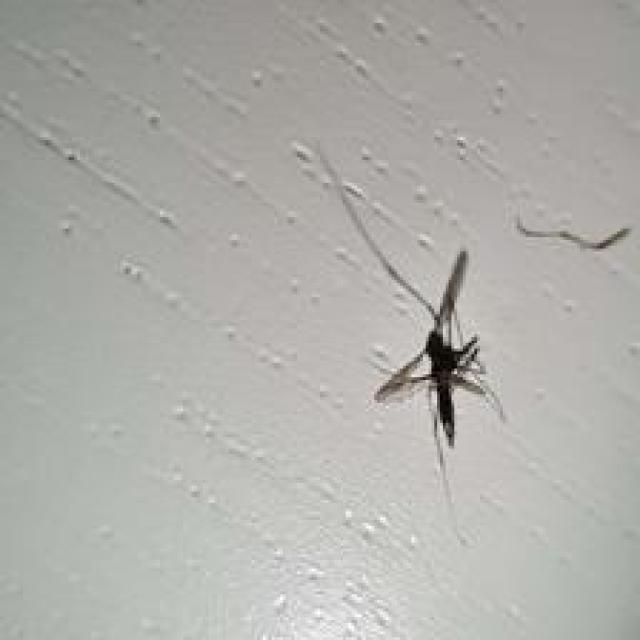Aedes albopictus: (293, 140, 510, 546)
